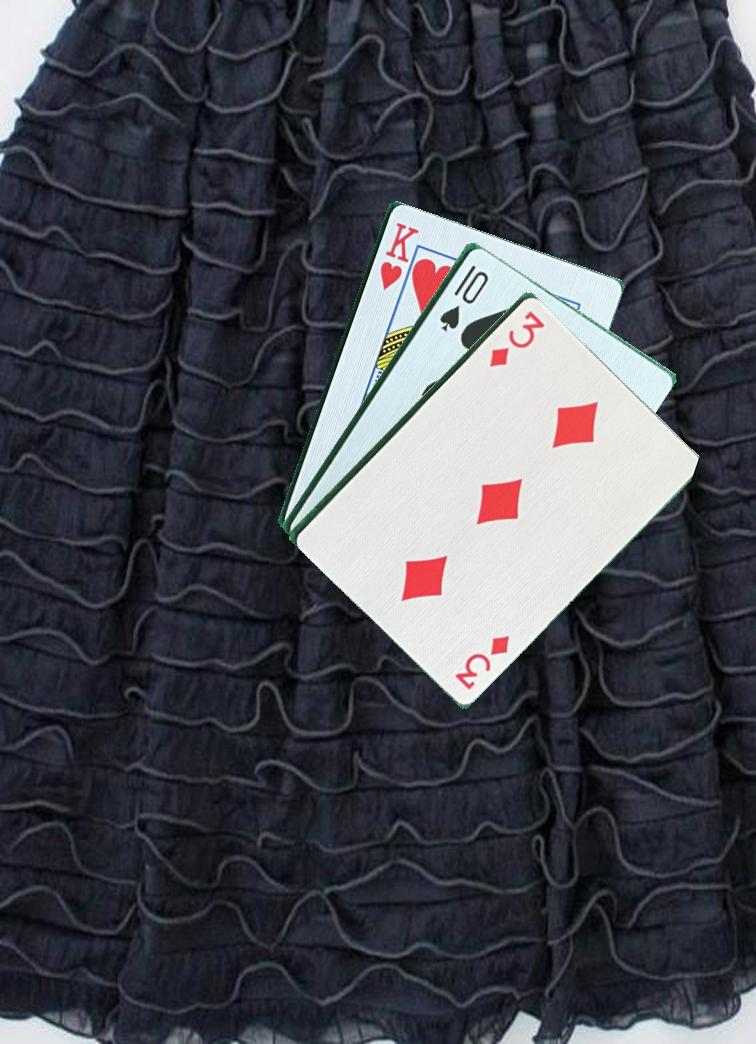3d: (485, 306, 546, 370), (451, 630, 513, 692)
kh: (376, 218, 419, 295)
ts: (435, 261, 491, 334)
